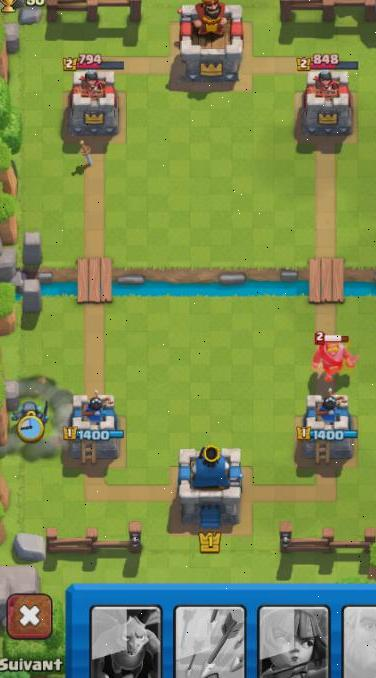enemy_knight: (306, 327, 356, 386)
player_mini_pekka: (6, 393, 54, 434)
